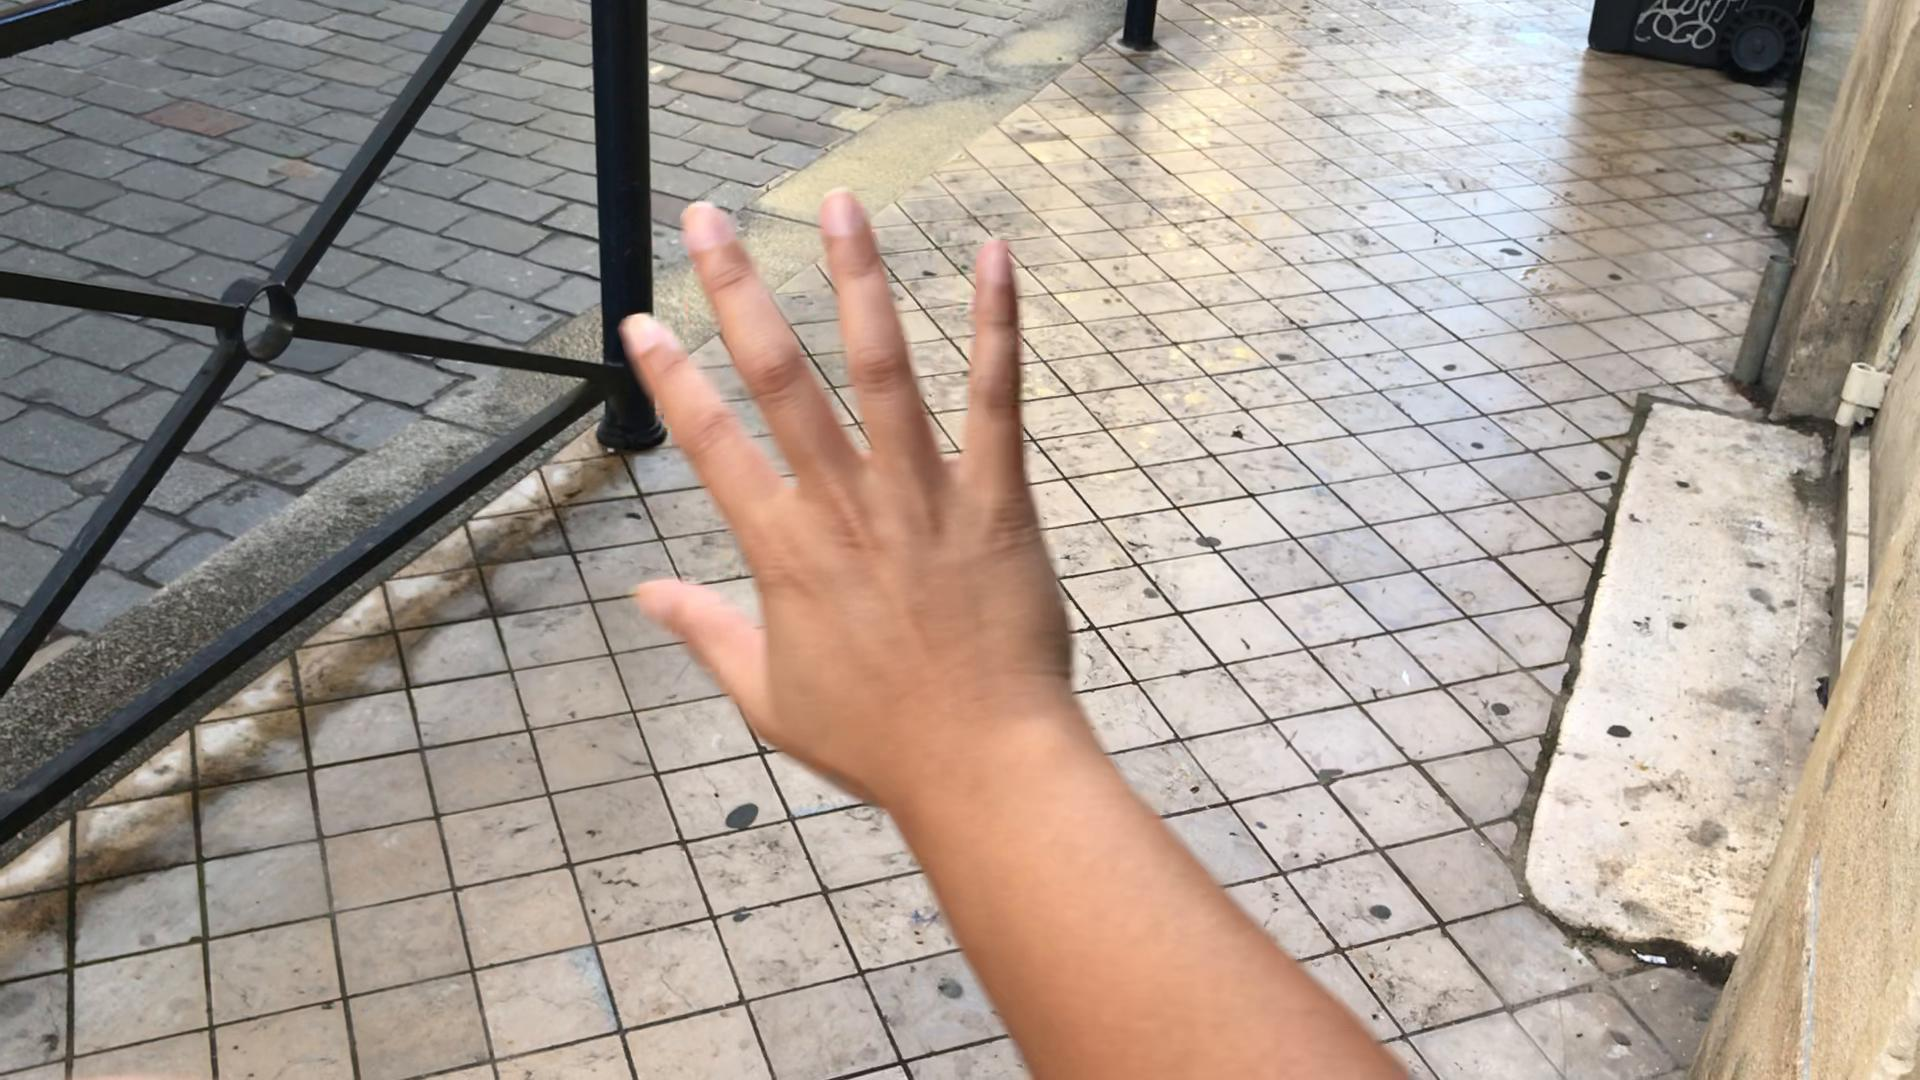hand: (613, 186, 1075, 798)
